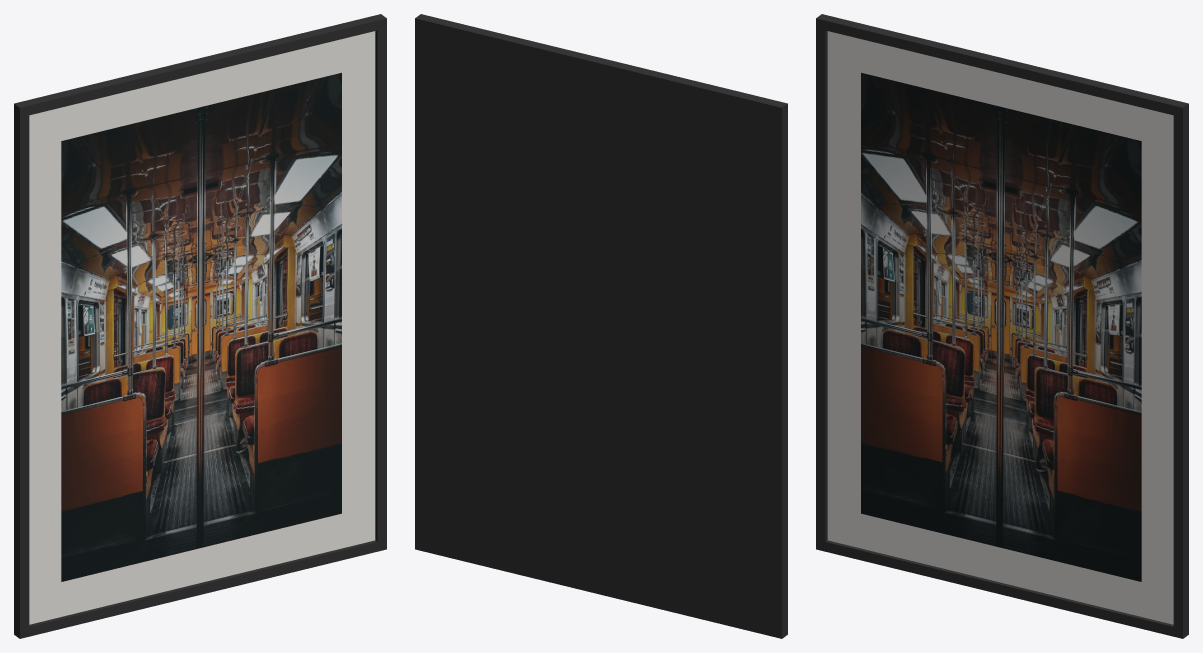
Rendered from vagnen-90.gltf.
The picture shows the model from 3 angles, left to right: view 1: azimuth 30°, elevation 25°; view 2: azimuth 150°, elevation 25°; view 3: azimuth 330°, elevation 25°; orthographic projection.
Parts seen in each view (by area): view 1: tavla; view 2: tavla; view 3: tavla.
Boxes of the visible parts, box(x1,y1,x2,y2) form: tavla: box(14, 14, 386, 638); tavla: box(415, 14, 787, 638); tavla: box(816, 14, 1188, 638).
Size of the model in its own units: 0.784 by 1.08 by 0.022.
3 materials, 1 textured.
